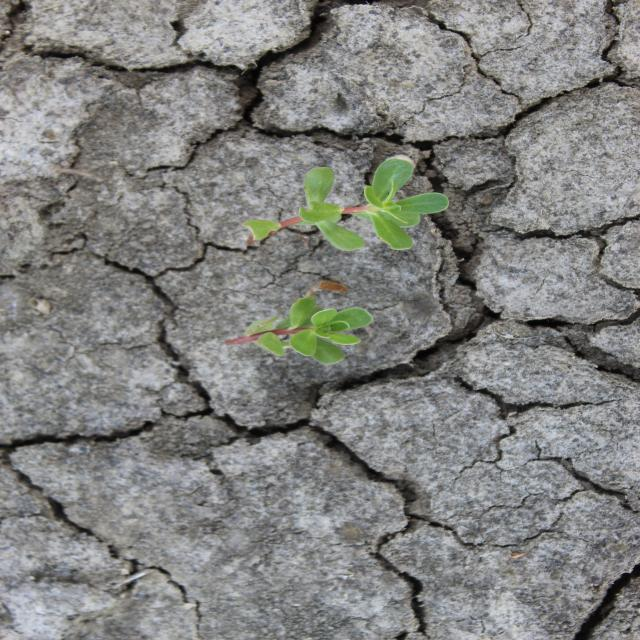Purslane: (239, 154, 452, 254), (222, 294, 378, 368)
